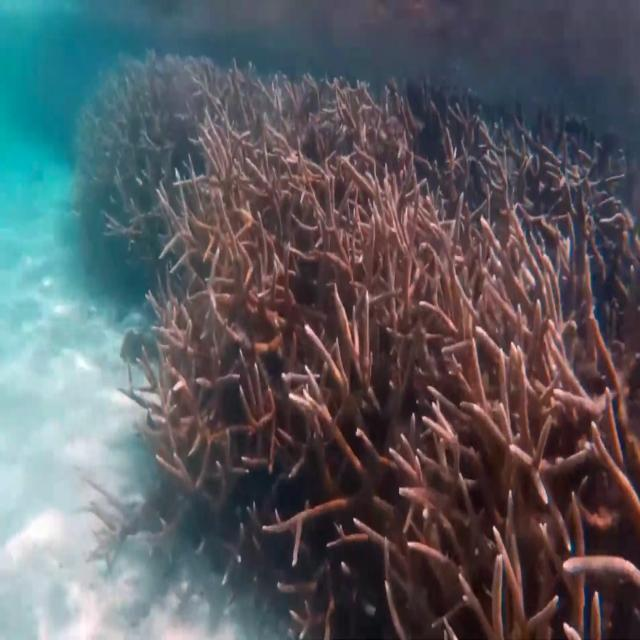Staghorn-Coral -Endangered-: (90, 56, 638, 628)
